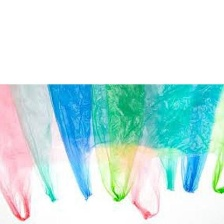plastic_bag: (0, 81, 166, 222), (44, 82, 224, 207), (11, 82, 179, 203), (91, 83, 223, 208)
